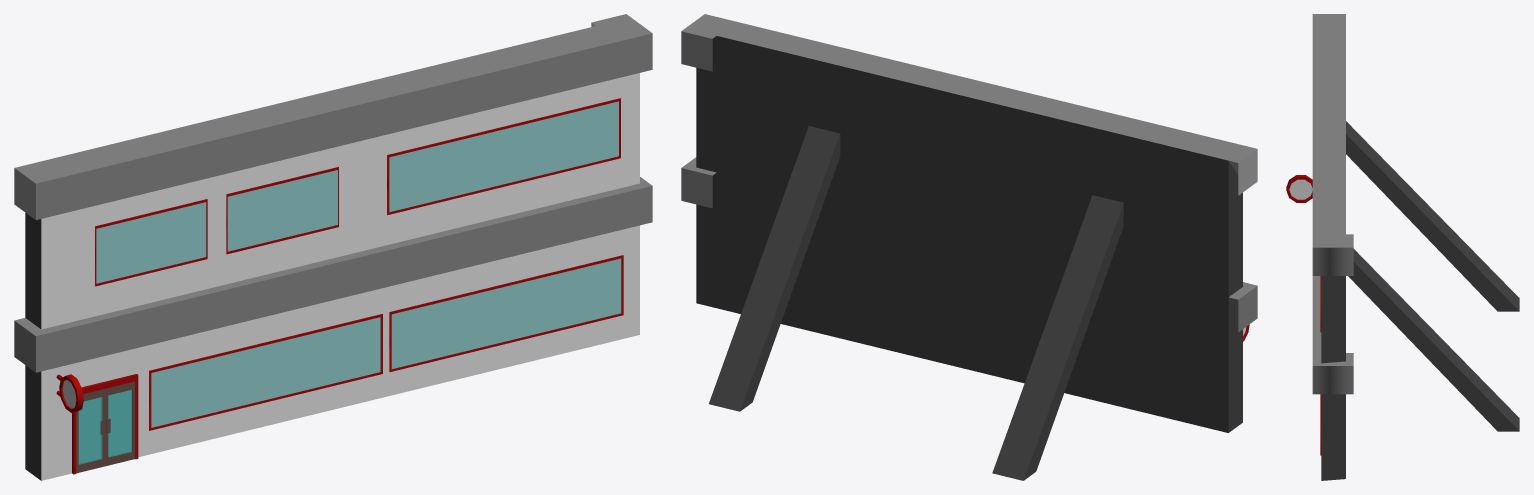
File: Prop_BuildingFake2StorySmall_Mod_01.fbx
3 views of the same model, side by side, from view 1: azimuth 30°, elevation 25°; view 2: azimuth 150°, elevation 25°; view 3: azimuth 270°, elevation 25° (orthographic). The views are drawn at different scales.
Visible parts, largest first — view 1: FakeBuilding3, Window9, Window, Window8, Window11, Window10, Door49, Door48, polySurface6, Sign10; view 2: FakeBuilding3, Support2, Support3; view 3: FakeBuilding3, Support3, Support2, Sign10.
Part boxes in pixels (box(x1,y1,x2,y2)): FakeBuilding3: box(14, 14, 652, 480); Window9: box(389, 255, 623, 371); Window: box(149, 314, 382, 430); Window8: box(387, 98, 620, 215); Window11: box(95, 199, 207, 286); Window10: box(226, 167, 338, 254); Door49: box(105, 381, 135, 465); Door48: box(76, 388, 105, 473); polySurface6: box(72, 374, 138, 474); Sign10: box(56, 374, 83, 412); FakeBuilding3: box(681, 14, 1257, 432); Support2: box(709, 126, 840, 411); Support3: box(992, 195, 1123, 480); FakeBuilding3: box(1312, 14, 1353, 480); Support3: box(1346, 121, 1519, 311); Support2: box(1348, 249, 1519, 431); Sign10: box(1286, 175, 1312, 202).
Bounding box in the file's own units: 17.67 × 8.32 × 7.46.
